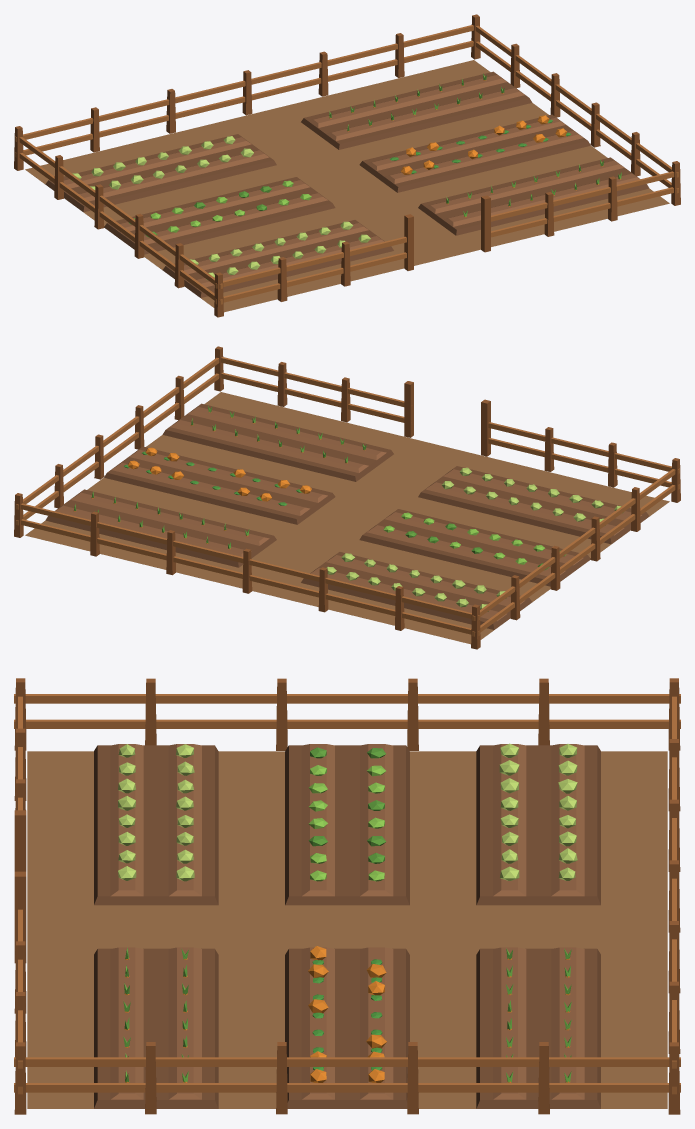
Rendered from prop-apothecary-field.glb.
3 renders of one model, top to bottom at view 1: azimuth 30°, elevation 25°; view 2: azimuth 150°, elevation 25°; view 3: azimuth 270°, elevation 25°, orthographic. The views are drawn at different scales.
Parts seen in each view (by area): view 1: FarmField; view 2: FarmField; view 3: FarmField.
Part boxes in pixels (x1=…): FarmField: x1=14, y1=14, x2=680, y2=317; FarmField: x1=14, y1=346, x2=680, y2=649; FarmField: x1=14, y1=678, x2=680, y2=1114.
Size of the model in its own units: 10.5 by 1.15 by 8.02.
